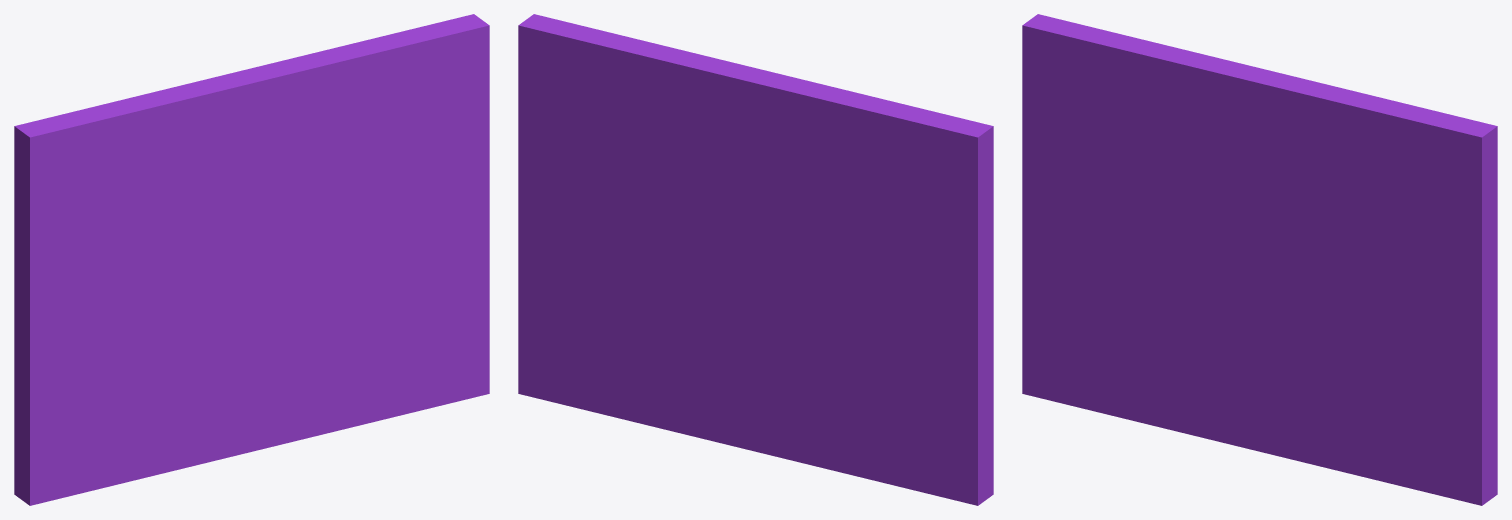
Rendered from Barrier_136_chunks.fbx.
The picture shows the model from 3 angles, left to right: view 1: azimuth 30°, elevation 25°; view 2: azimuth 150°, elevation 25°; view 3: azimuth 330°, elevation 25°; orthographic projection.
Parts seen in each view (by area): view 1: Barrier_136_1, Barrier_136_0, Barrier_136_6, Barrier_136_5, Barrier_136_4, Barrier_136_3; view 2: Barrier_136_1, Barrier_136_0, Barrier_136_6, Barrier_136_5, Barrier_136_2, Barrier_136_3, Barrier_136_4; view 3: Barrier_136_1, Barrier_136_0, Barrier_136_6, Barrier_136_5, Barrier_136_4, Barrier_136_3.
Boxes of the visible parts, box(x1,y1,x2,y2) form: Barrier_136_1: box(265, 14, 489, 437); Barrier_136_0: box(14, 257, 307, 505); Barrier_136_6: box(168, 23, 457, 216); Barrier_136_5: box(14, 88, 179, 260); Barrier_136_4: box(83, 184, 271, 262); Barrier_136_3: box(243, 211, 302, 254); Barrier_136_1: box(518, 14, 742, 440); Barrier_136_0: box(712, 248, 993, 505); Barrier_136_6: box(557, 22, 848, 184); Barrier_136_5: box(818, 91, 993, 256); Barrier_136_2: box(738, 248, 985, 315); Barrier_136_3: box(683, 172, 846, 250); Barrier_136_4: box(825, 218, 885, 249); Barrier_136_1: box(1258, 117, 1497, 505); Barrier_136_0: box(1022, 147, 1299, 461); Barrier_136_6: box(1166, 51, 1458, 238); Barrier_136_5: box(1022, 14, 1191, 173); Barrier_136_4: box(1075, 145, 1263, 264); Barrier_136_3: box(1236, 204, 1295, 260).
Size of the model in its own units: 376 by 288 by 22.1.
